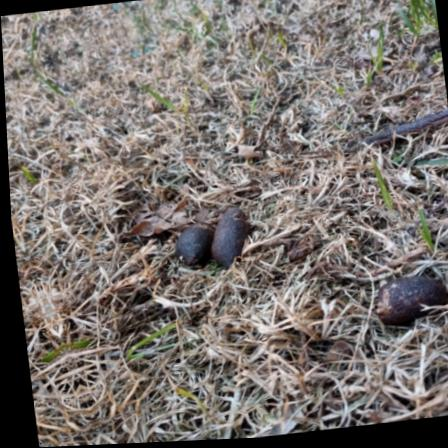dog-poop: (161, 203, 251, 276), (361, 268, 447, 331)
